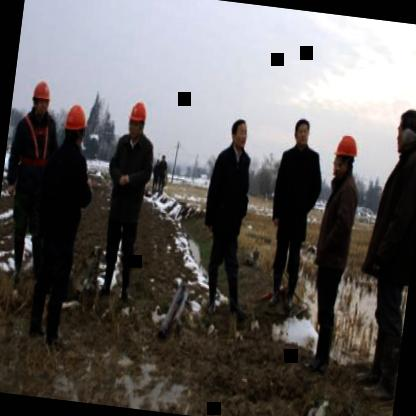head: (387, 100, 416, 162), (226, 113, 252, 154), (290, 112, 314, 154)
helmet: (329, 128, 361, 182), (58, 100, 90, 150), (28, 76, 56, 121), (122, 98, 150, 140)
